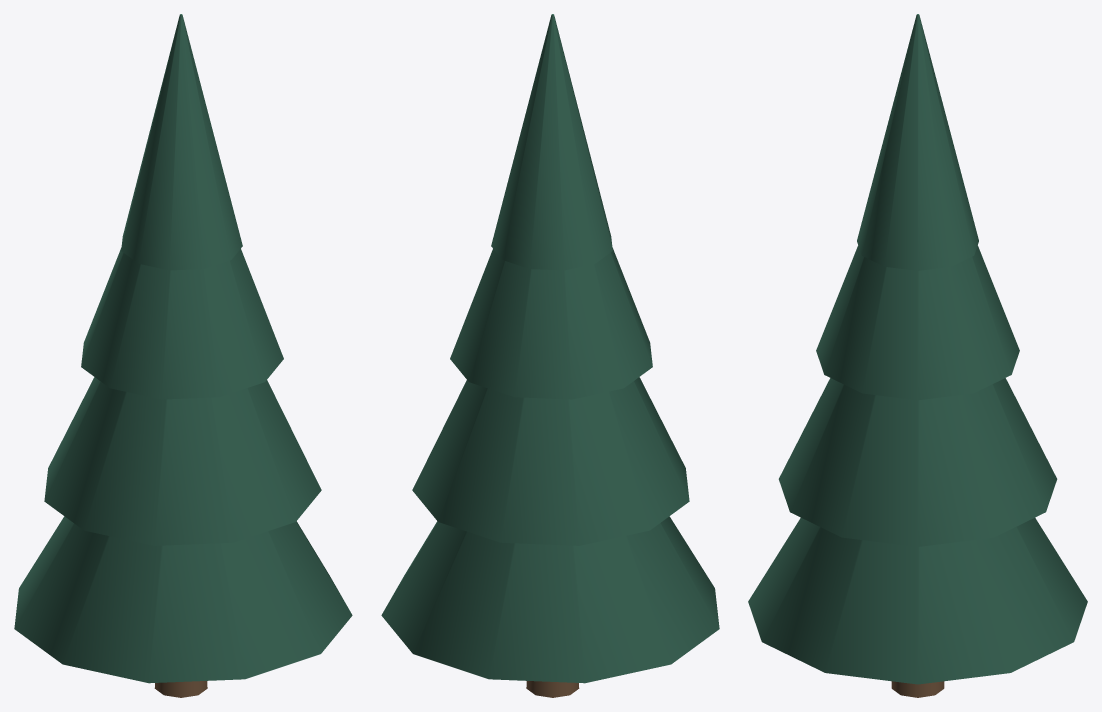
3 views of the same model, side by side, from view 1: azimuth 30°, elevation 25°; view 2: azimuth 150°, elevation 25°; view 3: azimuth 270°, elevation 25° (orthographic).
Visible parts, largest first — view 1: molen.entities.tree.conifer.fir; view 2: molen.entities.tree.conifer.fir; view 3: molen.entities.tree.conifer.fir.
Part boxes in pixels (left/top/right/bottom): molen.entities.tree.conifer.fir: left=14, top=14, right=352, bottom=697; molen.entities.tree.conifer.fir: left=381, top=14, right=719, bottom=697; molen.entities.tree.conifer.fir: left=748, top=14, right=1087, bottom=697.
Size of the model in its own units: 4.9 by 10.8 by 4.95.
